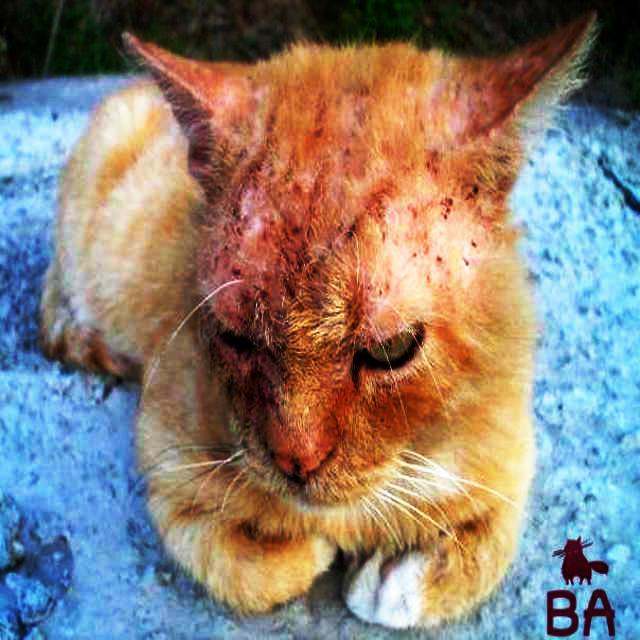ringworm: (226, 240, 304, 318), (241, 370, 283, 418)
